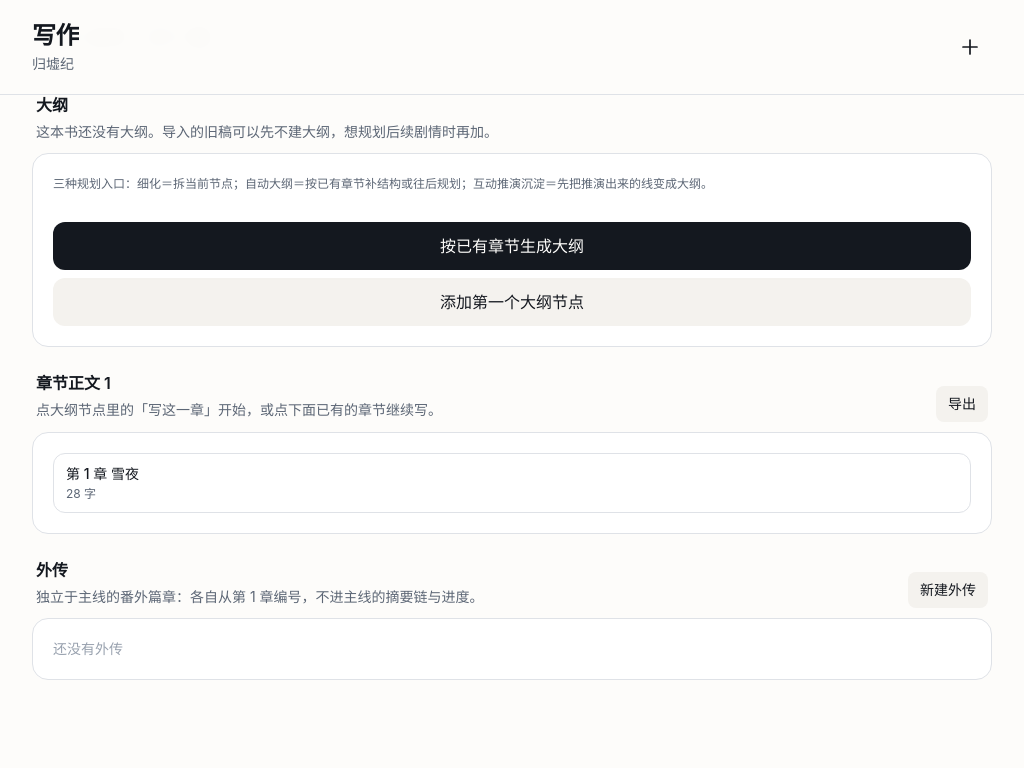
Test: 请求内容 › system 含作用范围含「检查」的规范，user 含本章正文；停用的与只写正文的不出现
The width and height of the screenshot is (1024, 768).
(page scrolled)
Click the button with aria-label "继续写第 1 章".
click(123, 473)  # box [53,452,971,512]
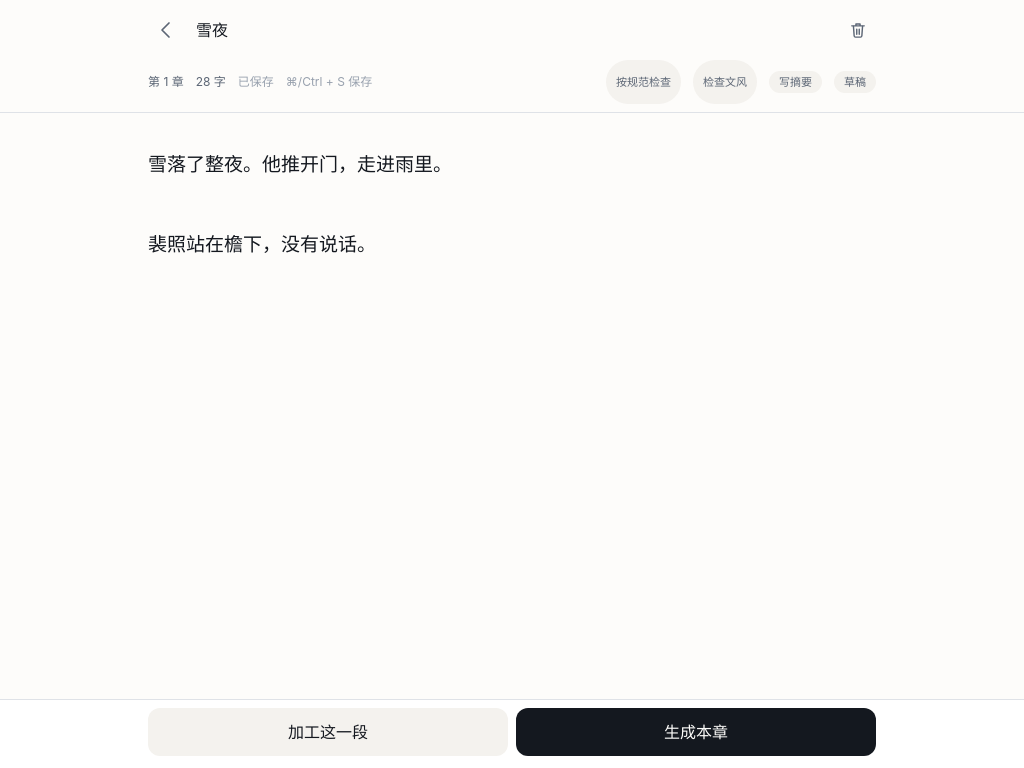
Expected: the text box named "章节正文" is shown, [144,113,880,699]
Click the button "按规范检查".
click(644, 82)  # box [606,60,681,104]
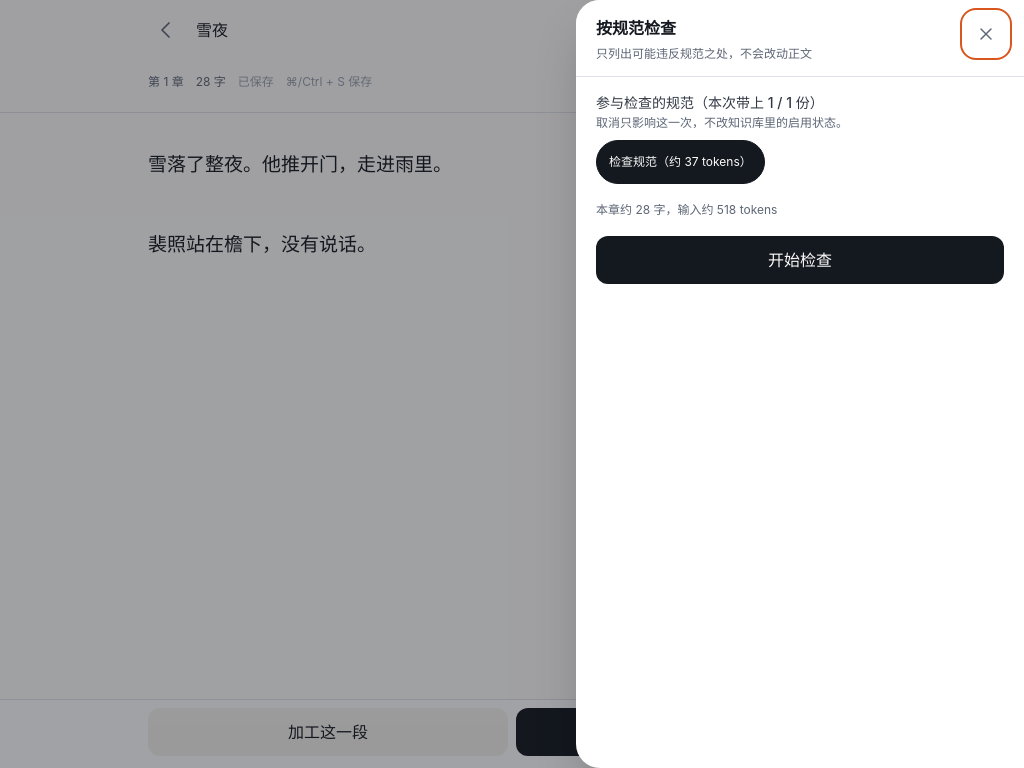
Click the button "开始检查".
click(800, 260)  # box [596,236,1004,284]
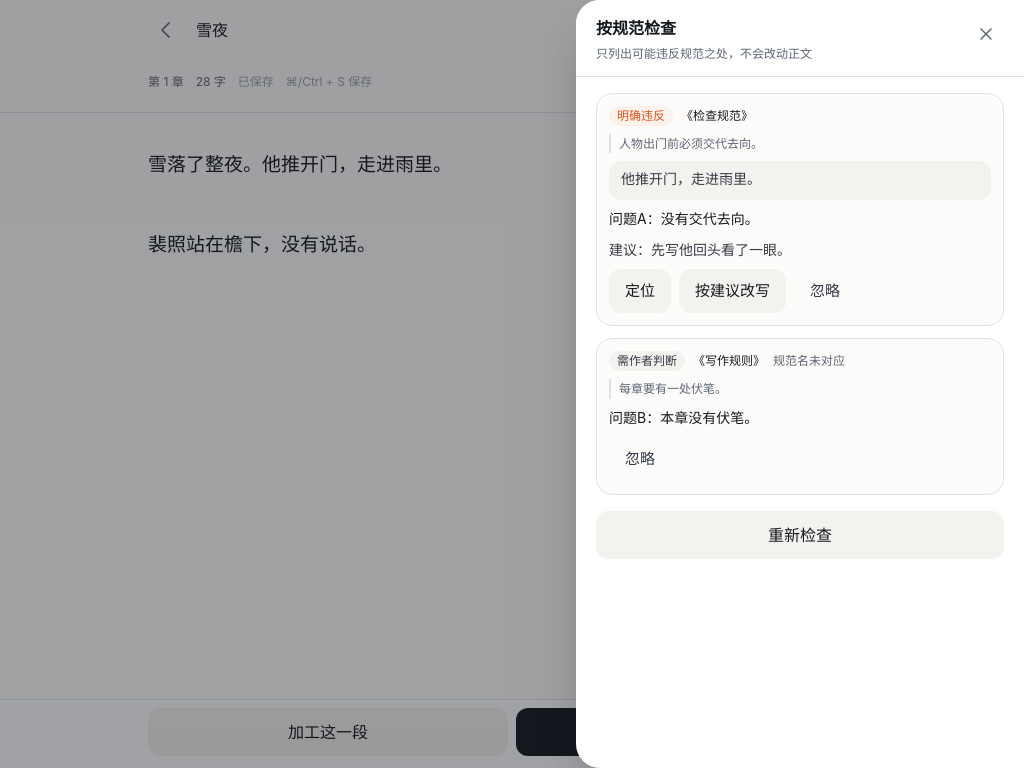
Expected: the text "问题A：没有交代去向。" is shown, [609,210,759,227]
